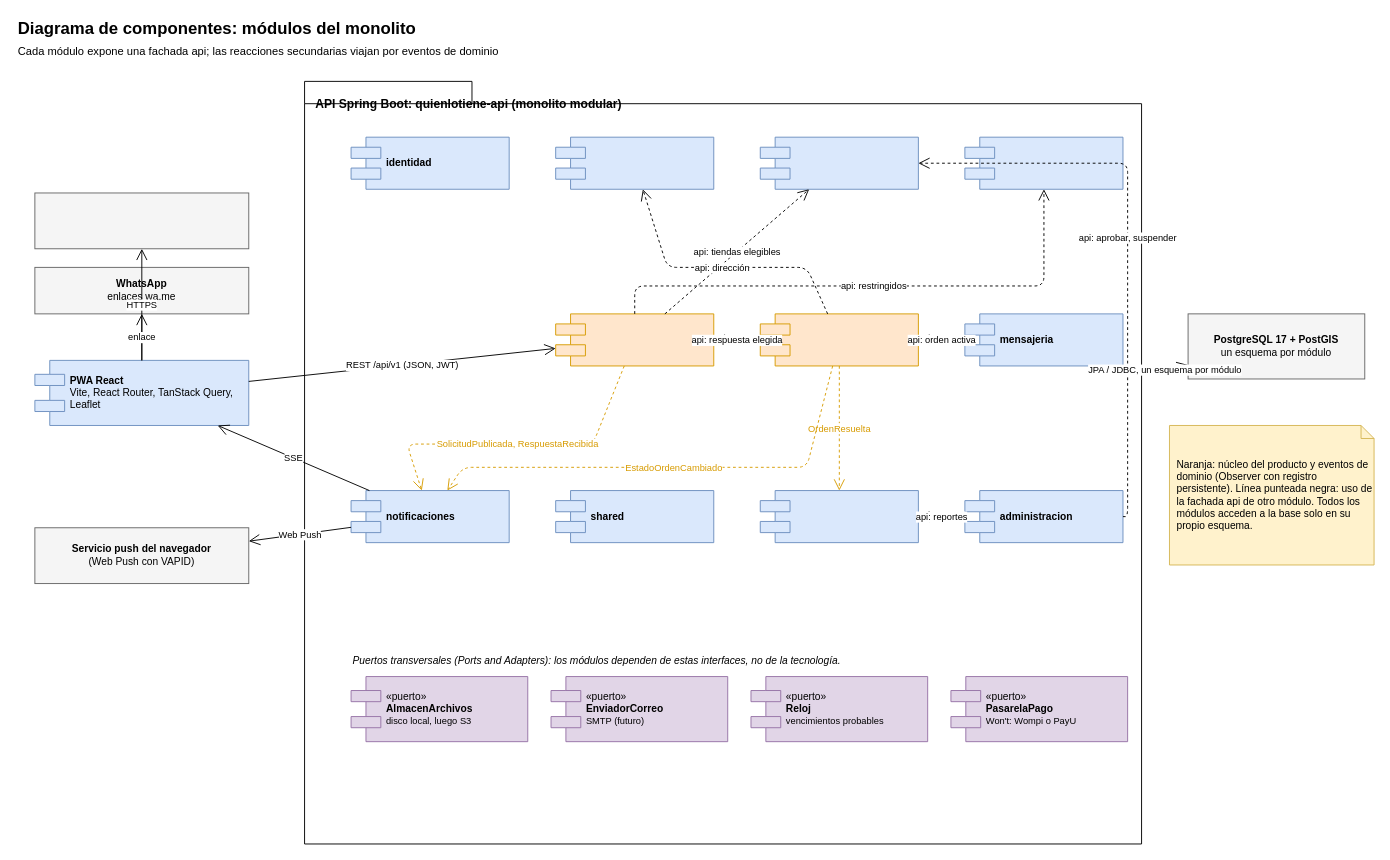
Image size: 1390x860. Some labels were removed from this diagram. Each missing label, with the box of its shape:
catalogo: (964, 136, 1123, 189)
clientes: (555, 136, 714, 189)
OpenStreetMap teselas del mapa: (34, 192, 249, 249)
ordenes: (759, 313, 918, 366)
reputacion: (759, 490, 918, 543)
solicitudes: (555, 313, 714, 366)
tiendas: (759, 136, 918, 189)
